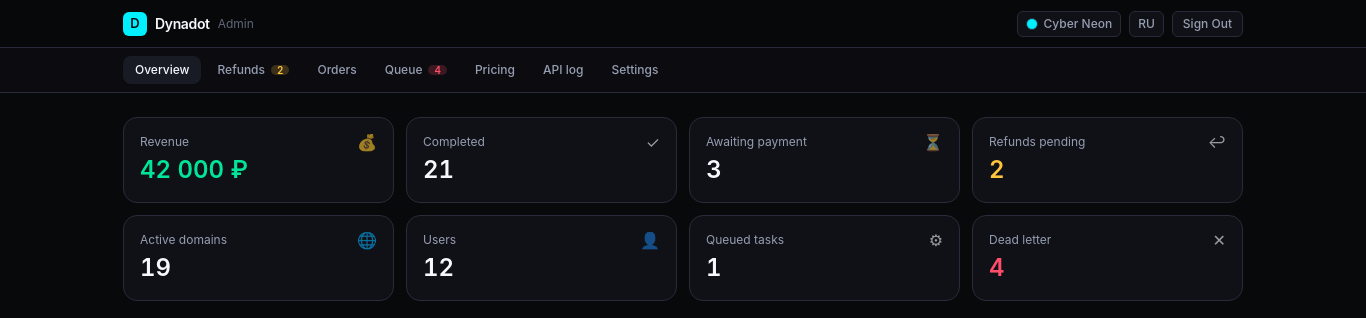
Test: refunds › resolves a refund after confirmation and refreshes the queue
The image size is (1366, 318).
Click the button "Refunds 2" at coordinates (254, 70), box [206,56,302,84]
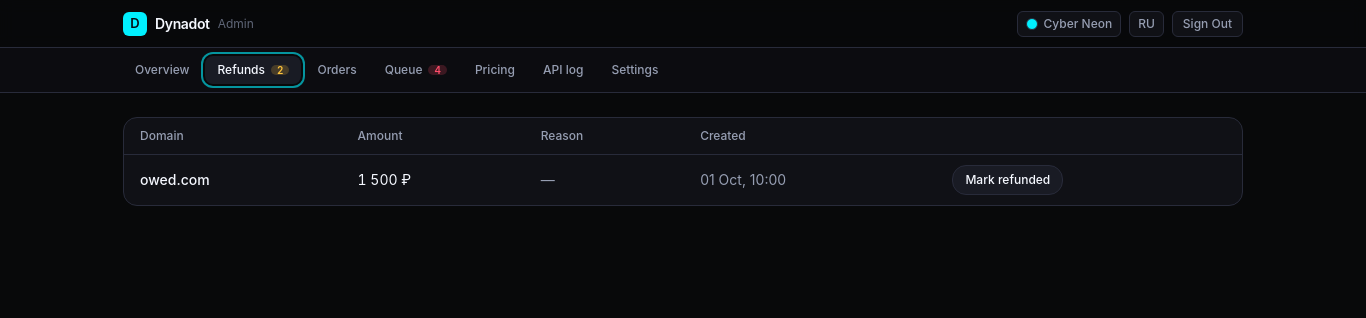
Click the button "Mark refunded" at coordinates (1008, 180), box [952,165,1063,195]
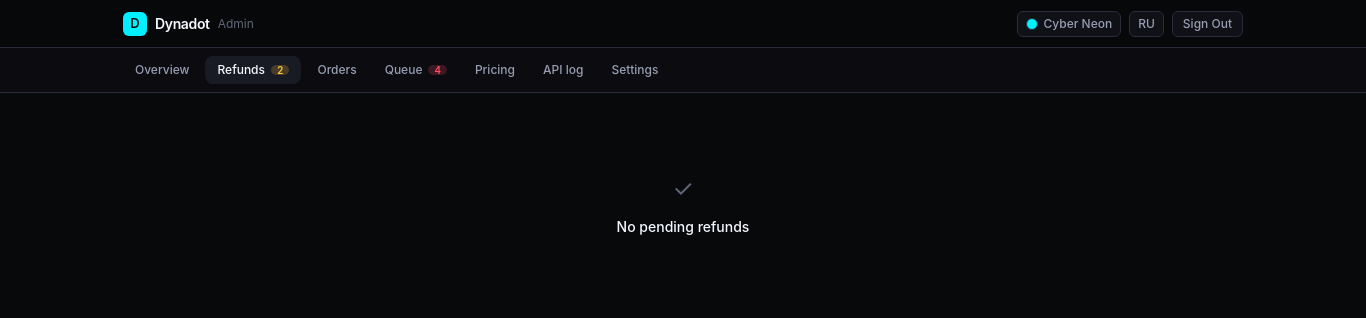
Expected: the text "No pending refunds" is shown, [617,217,749,237]
